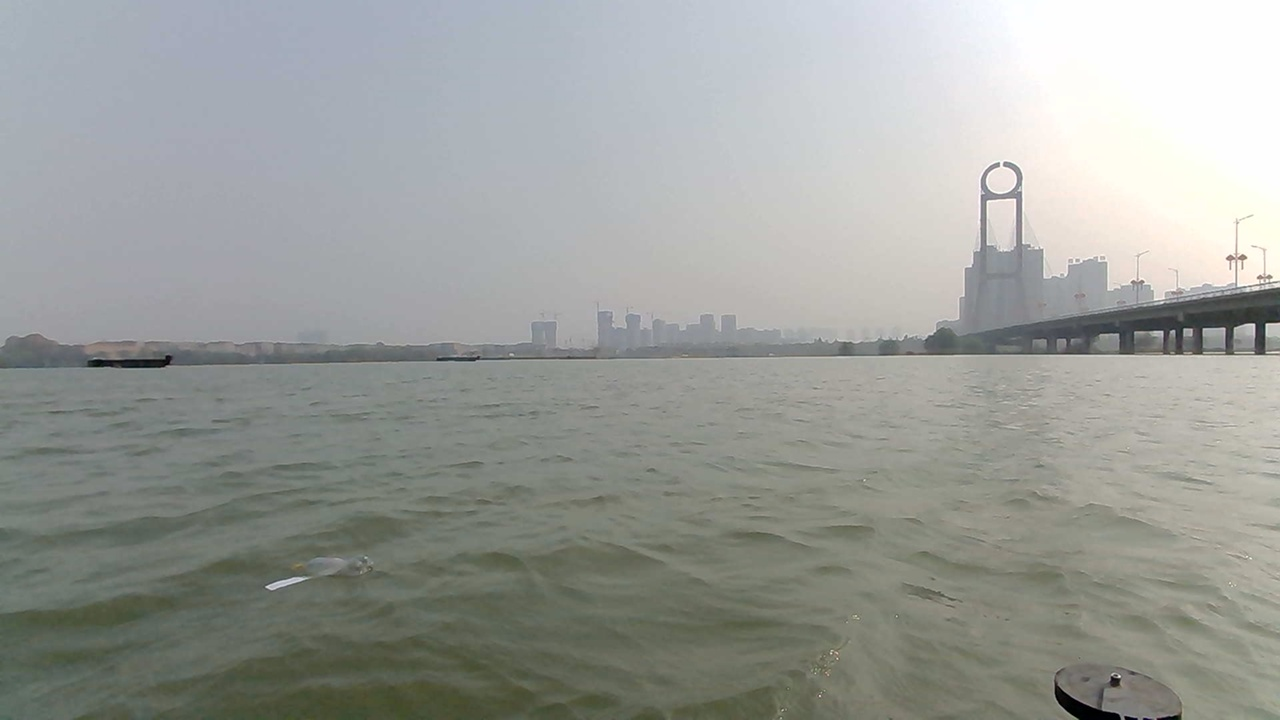bottle: (282, 532, 411, 610)
